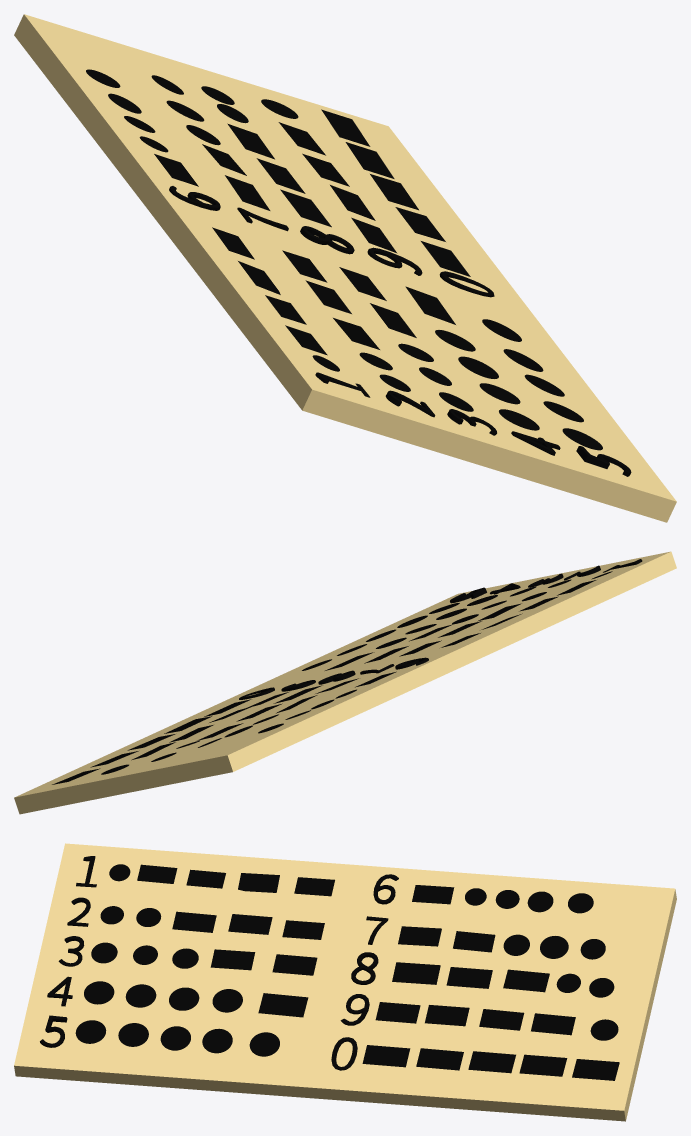
The model's file is morse code hologram puzzle lock morse code guide.fbx.
3 views of the same model, one above another, from view 1: azimuth 30°, elevation 25°; view 2: azimuth 150°, elevation 25°; view 3: azimuth 270°, elevation 25° (orthographic). The views are drawn at different scales.
Visible parts, largest first — view 1: e49962e9-3752-42a5-aed6-e0e9b394fca4; view 2: e49962e9-3752-42a5-aed6-e0e9b394fca4; view 3: e49962e9-3752-42a5-aed6-e0e9b394fca4.
Boxes of the visible parts, x1,y1,x2,y2 form: e49962e9-3752-42a5-aed6-e0e9b394fca4: [14, 14, 676, 522]; e49962e9-3752-42a5-aed6-e0e9b394fca4: [14, 551, 676, 814]; e49962e9-3752-42a5-aed6-e0e9b394fca4: [14, 843, 676, 1121].
Size of the model in its own units: 17588 by 6658 by 29880.
